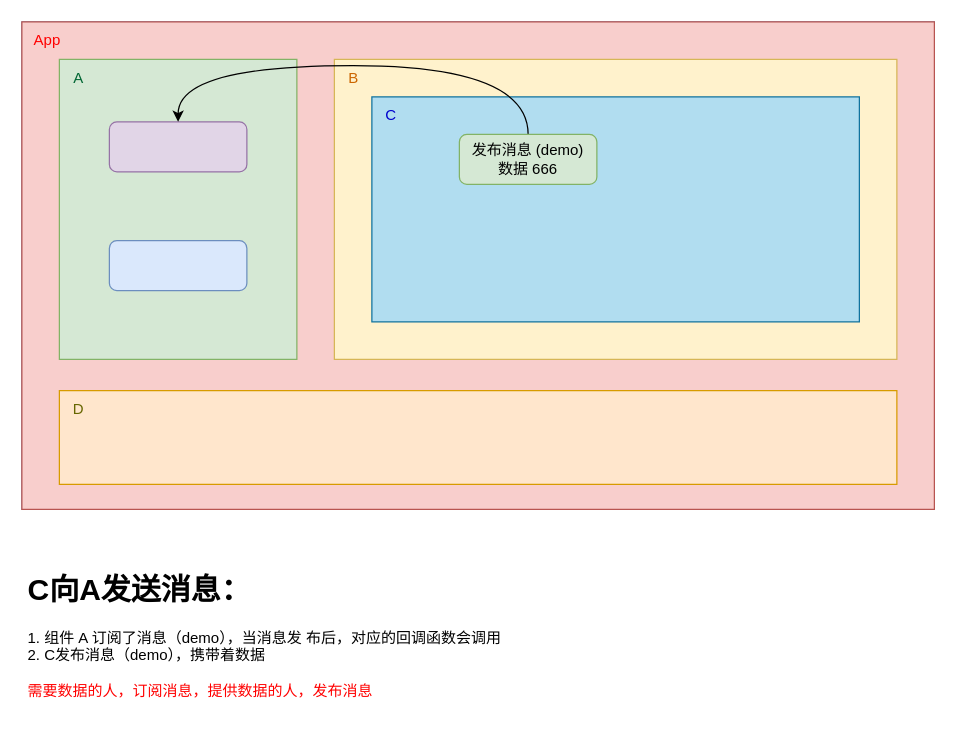
Image size: 956x738. Some labels were removed from this diagram. Here are the shapes that lost their labels. From the top down, the box of each, then its label:
(108, 121, 247, 172): 订阅消息 (demo)
(108, 239, 247, 291): 回调函数 (test)
